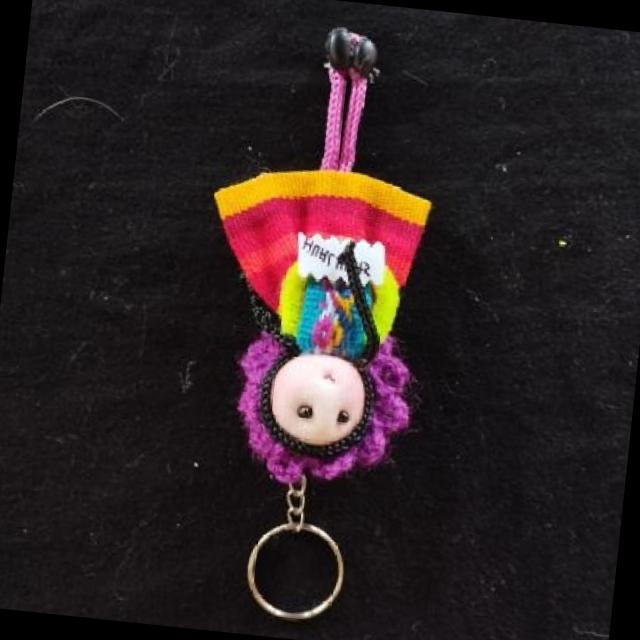Llavero: (182, 14, 454, 498)
